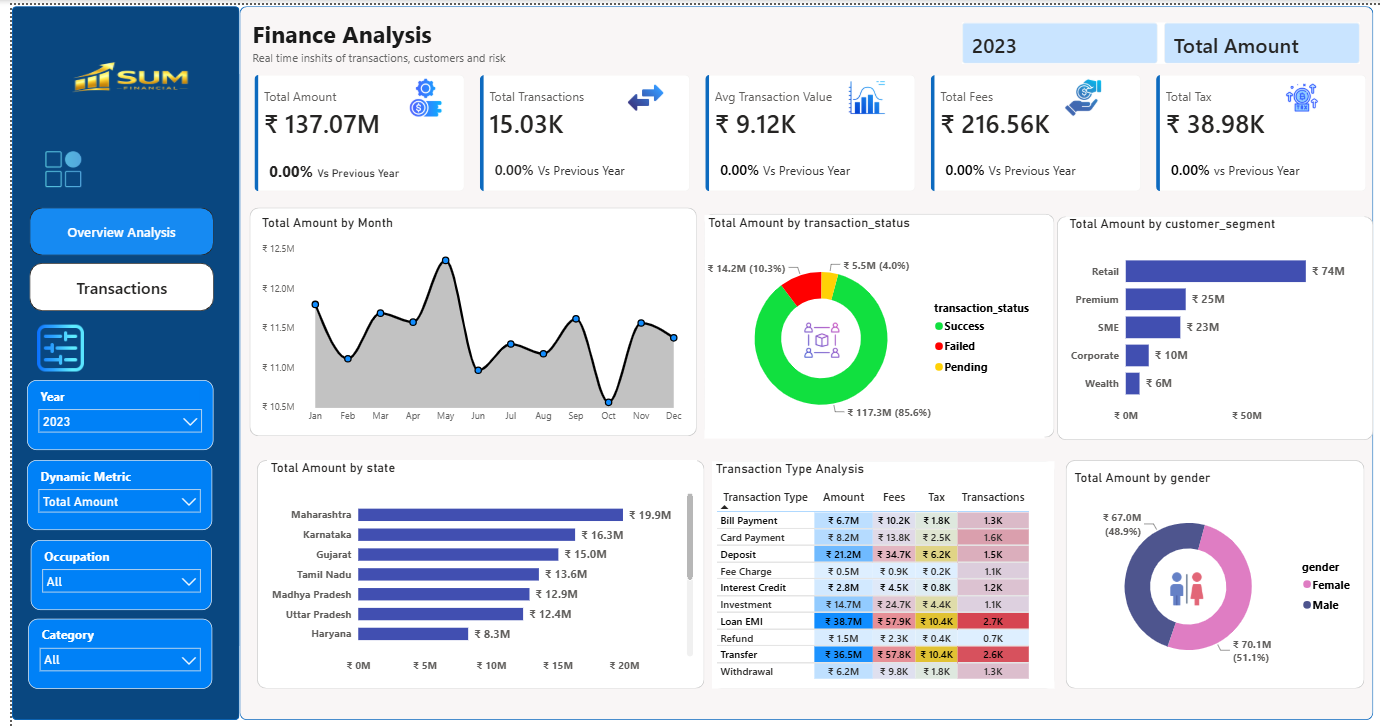

This screenshot's page, from the dashboard's own definition file:
{"tool":"powerbi","page":{"name":"Overview Analysis","canvas":[1800,950],"ordinal":0},"visuals":[{"type":"shape","box":[0,1.6,298.7,937.2],"z":0},{"type":"shape","box":[298.7,1.6,1488.7,937.2],"z":1000},{"type":"cardVisual","fields":{"Data":["finance_transactions.Dashboard Title"]},"box":[298.7,0,914.2,96.8],"z":2000},{"type":"cardVisual","fields":{"Data":["finance_transactions.Total Amount","finance_transactions.Total Transactions","finance_transactions.Avg Transaction Value","finance_transactions.Total Fees","finance_transactions.Total Tax"]},"box":[311.9,85.3,1475.6,165.8],"z":3000},{"type":"slicer","fields":{"Values":["Calender Table.Year"]},"box":[19.7,492.4,244.6,91.9],"z":4000},{"type":"image","box":[505.5,96.8,75.5,49.2],"z":5000},{"type":"image","box":[794.4,96.8,75.5,49.2],"z":6000},{"type":"image","box":[1084.9,96.8,75.5,49.2],"z":7000},{"type":"image","box":[1368.9,96.8,75.5,49.2],"z":8000},{"type":"image","box":[1656.1,96.8,75.5,49.2],"z":9000},{"type":"slicer","fields":{"Values":["Dynamic Metric.Dynamic Metric"]},"box":[19.7,597.4,242.9,91.9],"z":10000},{"type":"shape","box":[311.9,265.9,587.6,300.4],"z":11000},{"type":"areaChart","fields":{"Category":["Calender Table.Month"],"Y":["finance_transactions.Total Amount"]},"box":[323.3,275.7,567.9,282.3],"z":12000},{"type":"cardVisual","fields":{"Data":["finance_transactions.Selected Year","finance_transactions.Selected Dynamic Measure"]},"box":[1242.5,18.1,533.4,64],"z":13000},{"type":"shape","box":[909.3,274.1,459.6,293.8],"z":14000},{"type":"donutChart","fields":{"Category":["finance_transactions.transaction_status"],"Y":["finance_transactions.Total Amount"]},"box":[909.3,275.7,446.4,293.8],"z":15000},{"type":"shape","box":[1372.2,277.4,415.3,293.8],"z":16000},{"type":"barChart","fields":{"Category":["customers.customer_segment"],"Y":["finance_transactions.Total Amount"]},"box":[1383.6,277.4,392.3,280.7],"z":17000},{"type":"shape","box":[321.7,597.4,587.6,300.4],"z":18000},{"type":"barChart","fields":{"Category":["customers.state"],"Y":["finance_transactions.Total Amount"]},"box":[334.8,597.4,564.6,288.9],"z":19000},{"type":"shape","box":[919.1,599.1,449.7,298.7],"z":20000},{"type":"tableEx","title":"Transaction Type Analysis","fields":{"Values":["finance_transactions.transaction_type","finance_transactions.Total Amount","finance_transactions.Total Fees","finance_transactions.Total Tax","finance_transactions.Total Transactions"]},"box":[919.1,599.1,449.7,298.7],"z":21000},{"type":"shape","box":[1383.6,597.4,392.3,300.4],"z":22000},{"type":"donutChart","fields":{"Category":["customers.gender"],"Y":["finance_transactions.Total Amount"]},"box":[1390.2,610.6,380.8,275.7],"z":23000},{"type":"image","box":[1025.8,415.3,75.5,49.2],"z":24000},{"type":"image","box":[1505.1,741.9,75.5,49.2],"z":25000},{"type":"slicer","fields":{"Values":["customers.occupation"]},"box":[24.6,702.5,238,91.9],"z":26000},{"type":"slicer","fields":{"Values":["finance_transactions.merchant_category"]},"box":[21.3,805.9,241.3,91.9],"z":27000},{"type":"pageNavigator","box":[23,265.9,242.9,137.9],"z":28000},{"type":"image","box":[24.6,192,85.3,47.6],"z":29001},{"type":"image","box":[21.3,415.3,85.3,70.6],"z":29002},{"type":"image","box":[19.7,18.1,257.7,151],"z":29003}]}

Visuals, with their boxes on the page's 1800x950 design canvas (x1, y1, x2, y2). These are canvas units, not pixel positions in the 1380x727 screenshot, which may show the page scaled, cropped or inside an application window:
shape: box(0, 2, 299, 939)
shape: box(299, 2, 1787, 939)
cardVisual - finance_transactions.Dashboard Title: box(299, 0, 1213, 97)
cardVisual - finance_transactions.Total Amount x finance_transactions.Total Transactions: box(312, 85, 1788, 251)
slicer - Calender Table.Year: box(20, 492, 264, 584)
image: box(506, 97, 581, 146)
image: box(794, 97, 870, 146)
image: box(1085, 97, 1160, 146)
image: box(1369, 97, 1444, 146)
image: box(1656, 97, 1732, 146)
slicer - Dynamic Metric.Dynamic Metric: box(20, 597, 263, 689)
shape: box(312, 266, 900, 566)
areaChart - Calender Table.Month x finance_transactions.Total Amount: box(323, 276, 891, 558)
cardVisual - finance_transactions.Selected Year x finance_transactions.Selected Dynamic Measure: box(1242, 18, 1776, 82)
shape: box(909, 274, 1369, 568)
donutChart - finance_transactions.transaction_status x finance_transactions.Total Amount: box(909, 276, 1356, 570)
shape: box(1372, 277, 1788, 571)
barChart - customers.customer_segment x finance_transactions.Total Amount: box(1384, 277, 1776, 558)
shape: box(322, 597, 909, 898)
barChart - customers.state x finance_transactions.Total Amount: box(335, 597, 899, 886)
shape: box(919, 599, 1369, 898)
"Transaction Type Analysis" tableEx: box(919, 599, 1369, 898)
shape: box(1384, 597, 1776, 898)
donutChart - customers.gender x finance_transactions.Total Amount: box(1390, 611, 1771, 886)
image: box(1026, 415, 1101, 464)
image: box(1505, 742, 1581, 791)
slicer - customers.occupation: box(25, 702, 263, 794)
slicer - finance_transactions.merchant_category: box(21, 806, 263, 898)
pageNavigator: box(23, 266, 266, 404)
image: box(25, 192, 110, 240)
image: box(21, 415, 107, 486)
image: box(20, 18, 277, 169)
